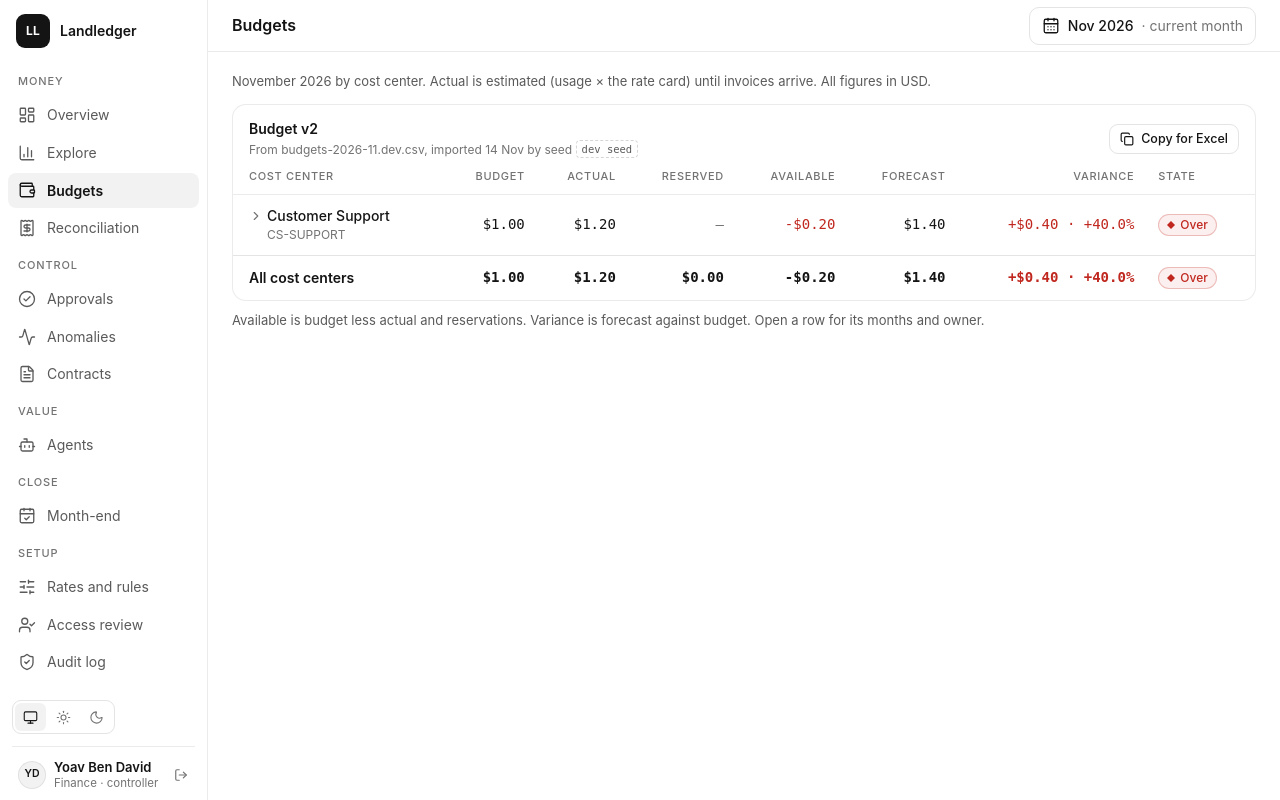
Scenario: Budgets › shows budget against actual and opens a row for its months
Expected: the text "dev seed" is shown, [576,140,638,158]
What coordinates should you click on to do the following:
click the button "Customer Support"
I would click on:
 (319, 216)
Its box is [249,206,390,226].
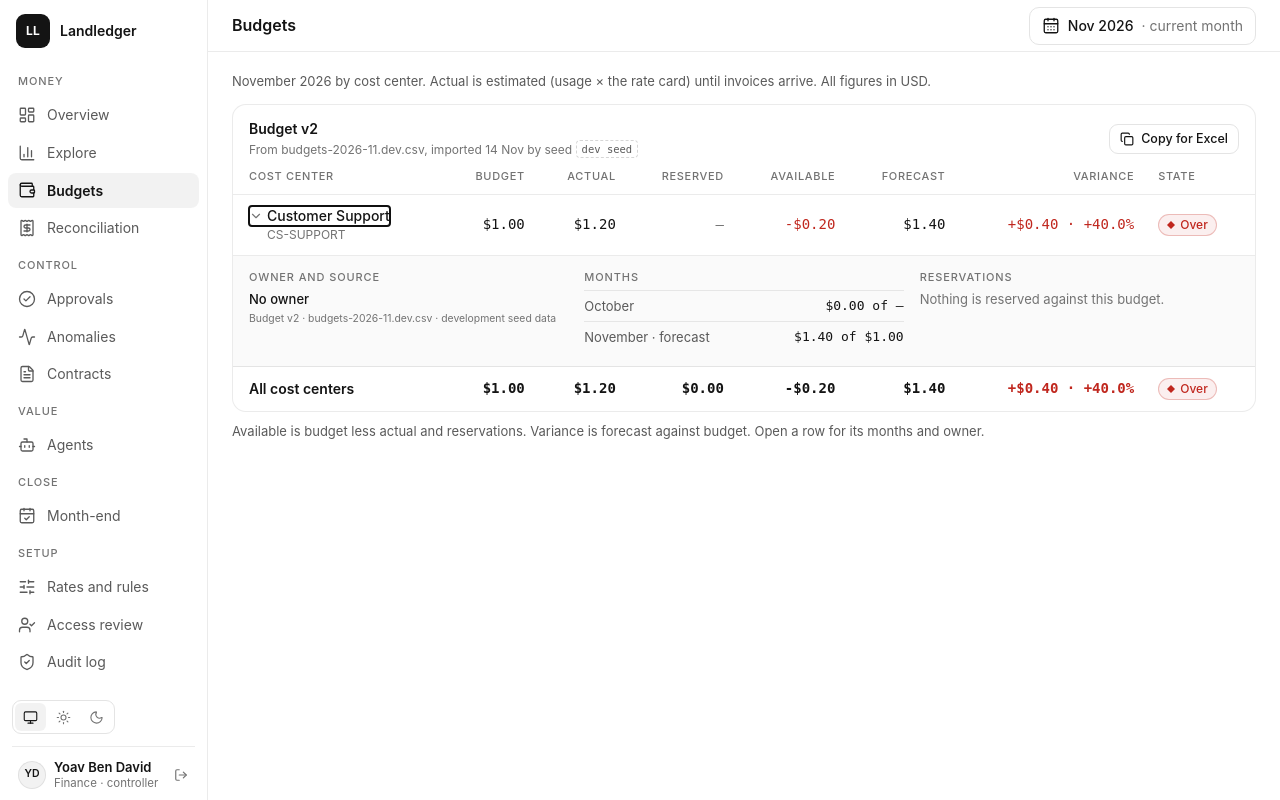
Expected: the text "Nothing is reserved against this budget." is shown, [920,290,1164,306]
